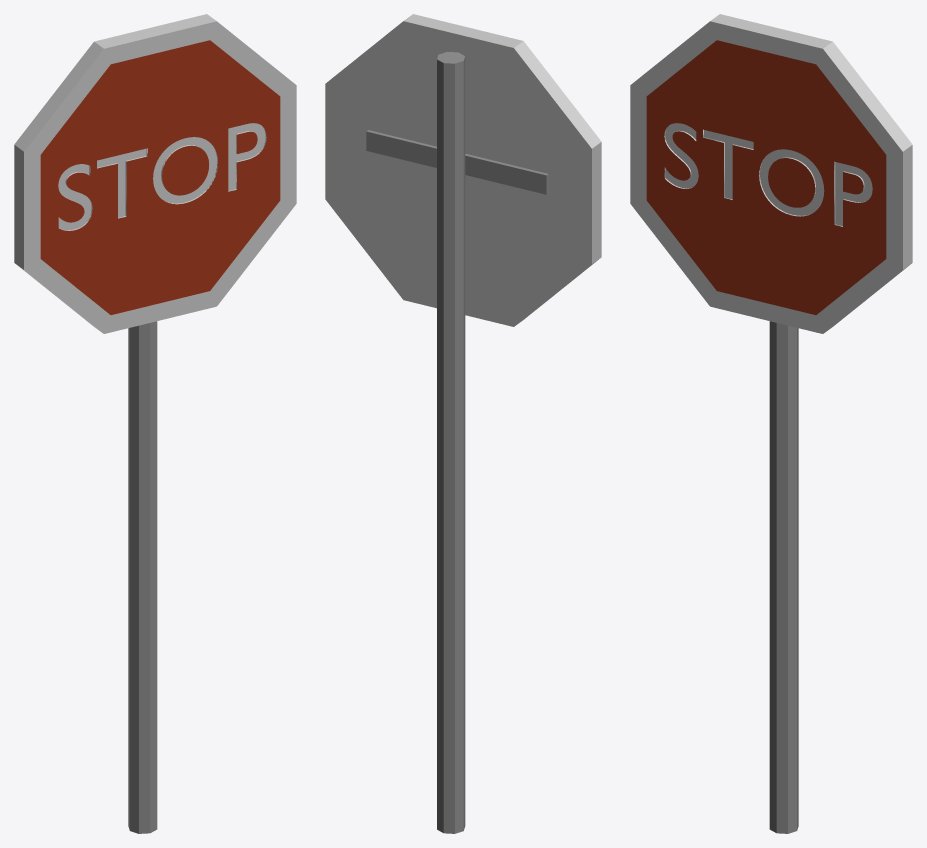
The model's file is RoadSign_01.glb.
3 renders of one model, left to right at view 1: azimuth 30°, elevation 25°; view 2: azimuth 150°, elevation 25°; view 3: azimuth 330°, elevation 25°, orthographic. The views are drawn at different scales.
Parts seen in each view (by area): view 1: RoadSign_01; view 2: RoadSign_01; view 3: RoadSign_01.
Part boxes in pixels (box(x1,y1,x2,y2)): RoadSign_01: box(14, 14, 296, 833); RoadSign_01: box(325, 14, 601, 833); RoadSign_01: box(630, 14, 912, 833).
Size of the model in its own units: 0.6386 by 1.8 by 0.1018.
1 material, 1 textured.
